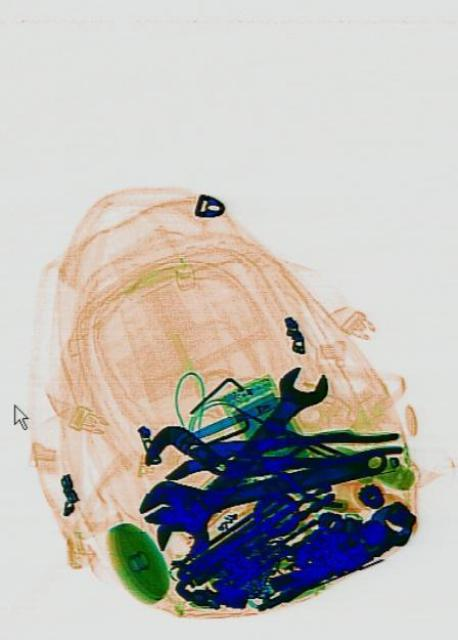Wrench: (149, 344, 333, 576), (133, 428, 389, 542)
